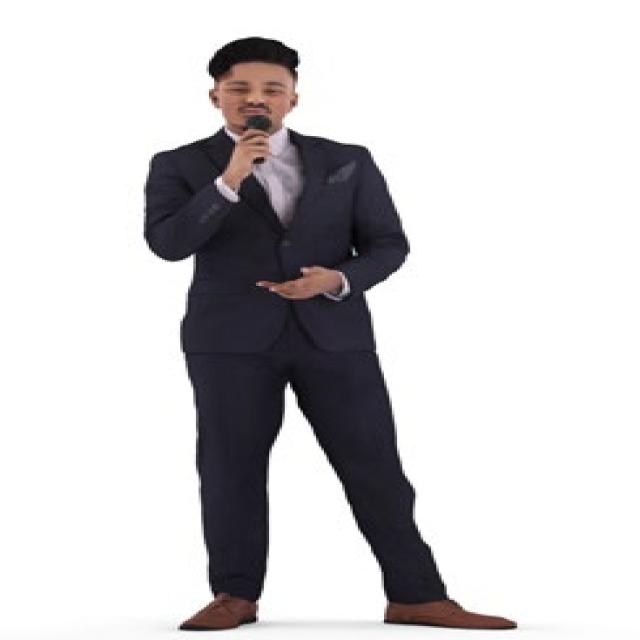standing: (141, 34, 524, 640)
